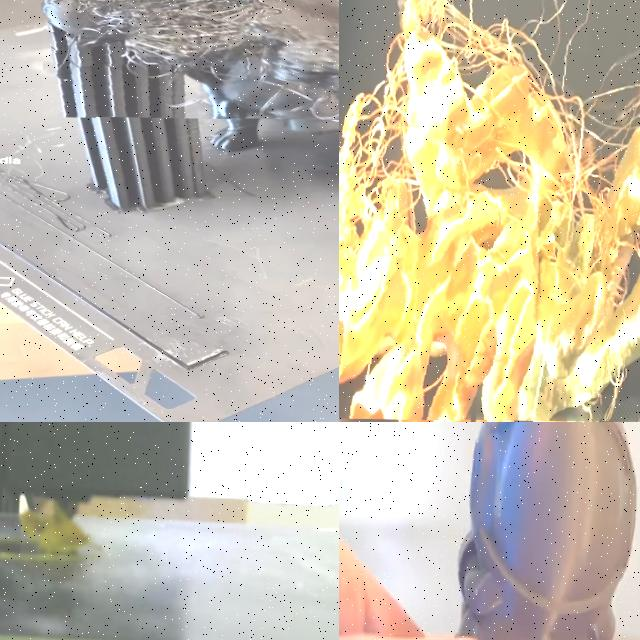spaghetti: (339, 0, 640, 422), (41, 0, 339, 123), (20, 508, 97, 565)
